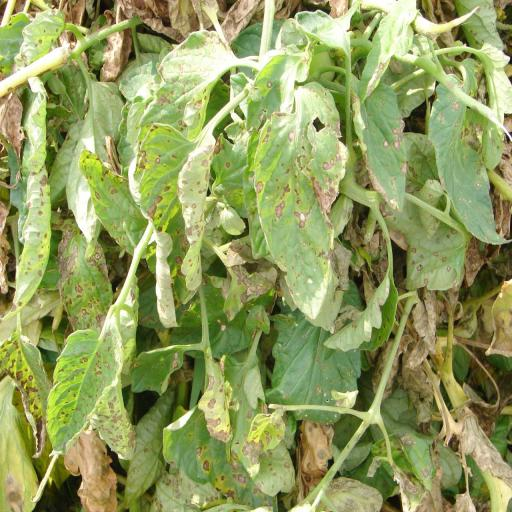Septoria: (251, 78, 352, 322), (139, 120, 218, 332), (426, 56, 512, 248), (161, 372, 276, 512), (0, 73, 52, 323), (136, 20, 238, 140), (268, 308, 362, 430), (44, 324, 122, 460), (348, 72, 418, 221), (78, 148, 156, 274), (320, 268, 400, 356), (0, 332, 52, 462), (56, 216, 114, 330), (128, 339, 186, 397), (246, 402, 288, 462)
